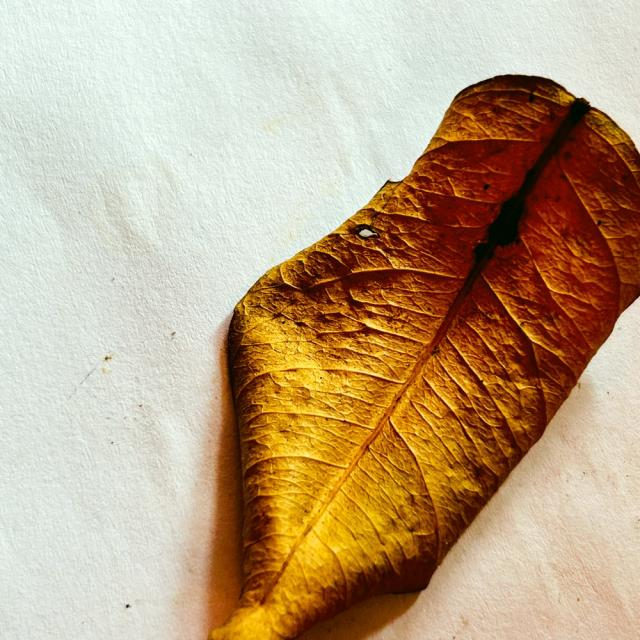DryLeaf_Lemon: (210, 76, 639, 639)
